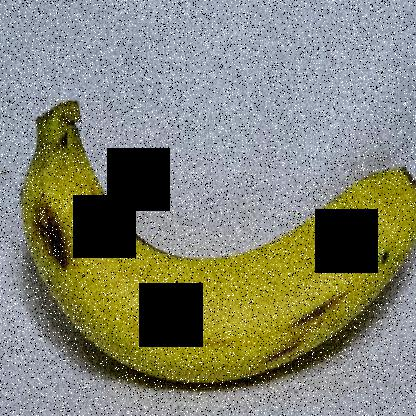freshripe: (12, 82, 416, 401)
